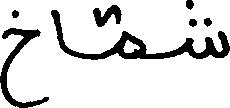X: (0, 5, 39, 107), (188, 0, 229, 63), (119, 3, 144, 63), (53, 5, 63, 55)
